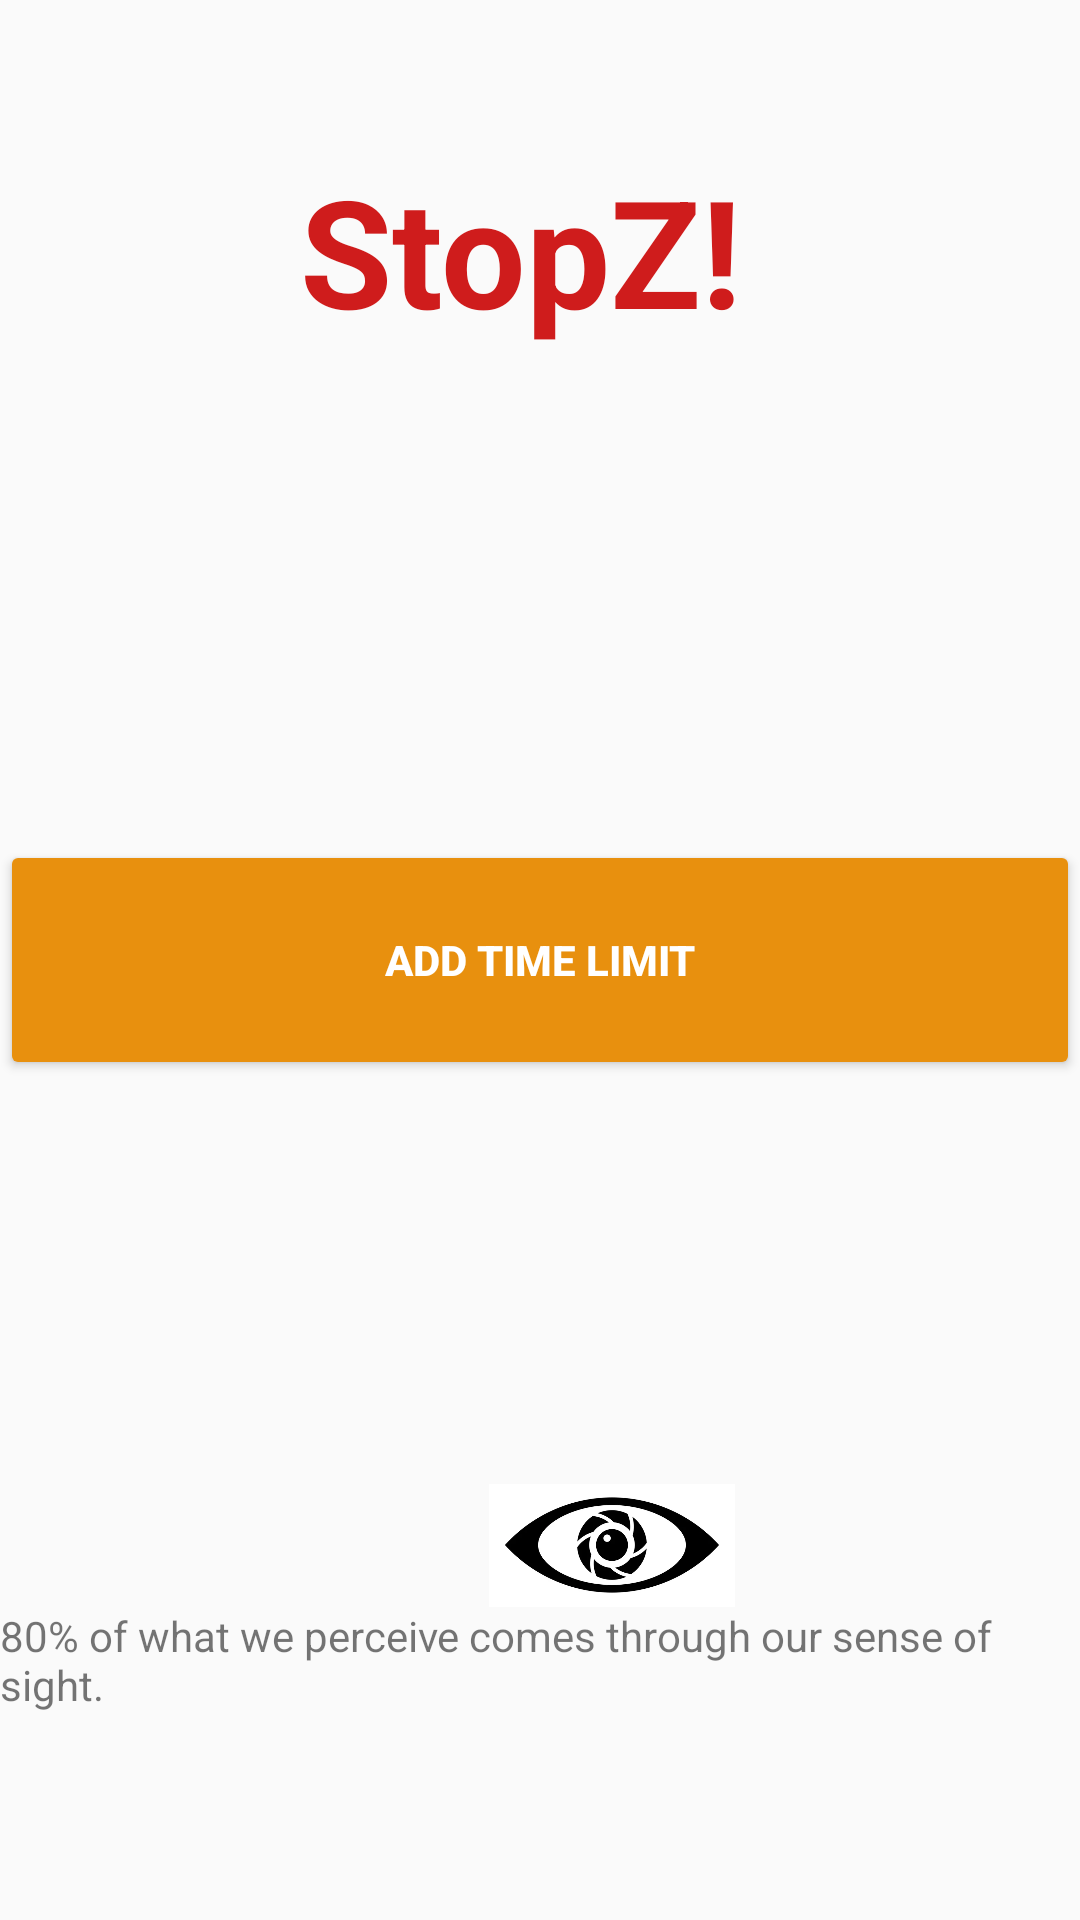

Icons on this 1080x1920 Android screen, each with the point to tap as (x,y):
eye: (612,1545)
